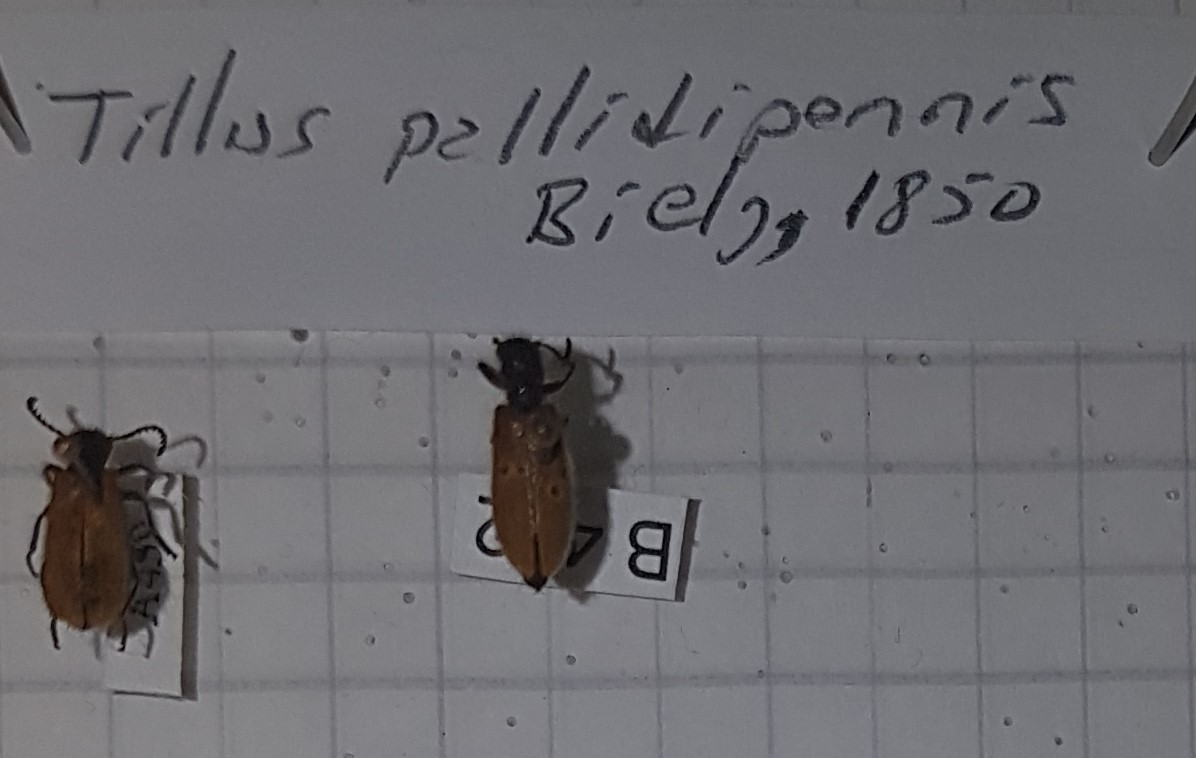tillus_pallidipennis: (15, 390, 178, 653), (474, 327, 599, 587)
